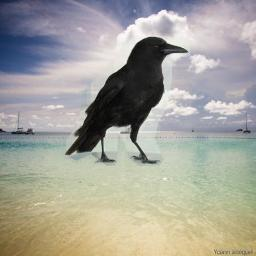Crow: (65, 36, 190, 166)
